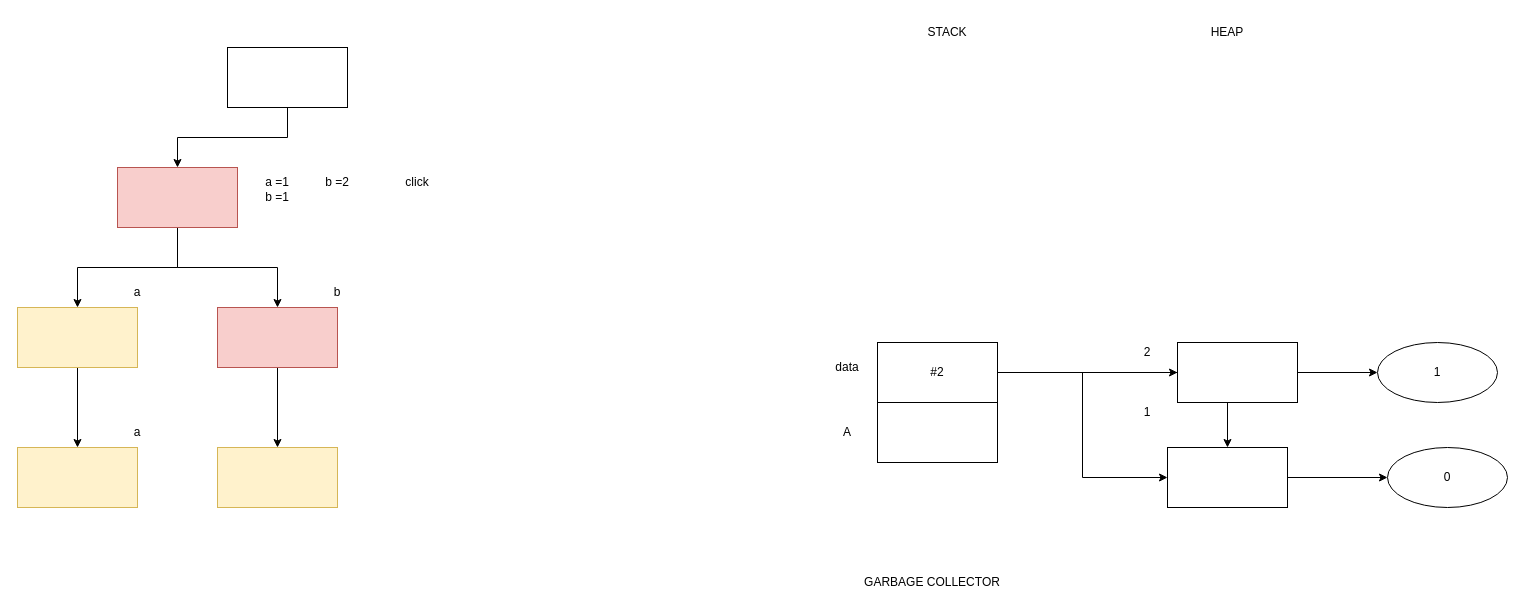
The diagram is 1525 pixels wide and 614 high, and some of its shapes have lost their labels. The shapes that lost their labels are listed below. From the top down, each one's centre as x and y in pixels, then its label:
(1237,372): [o1, o2, newobj]
(1227,477): [o1, o2]
